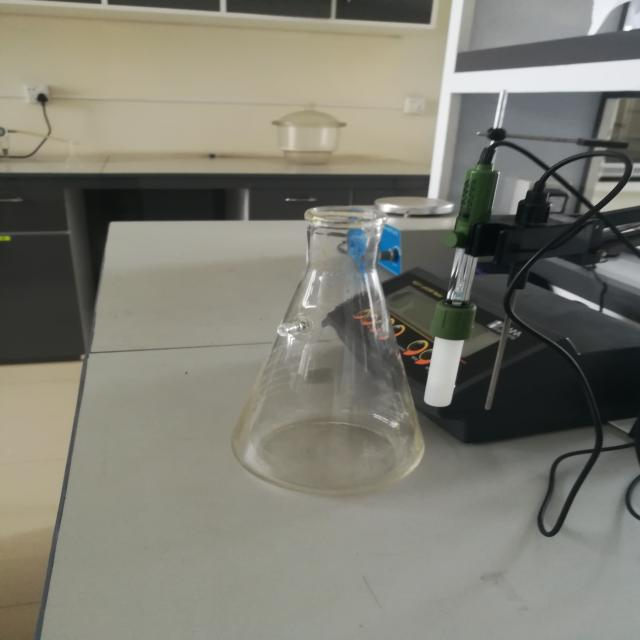Conical_Flask: (196, 182, 471, 512)
